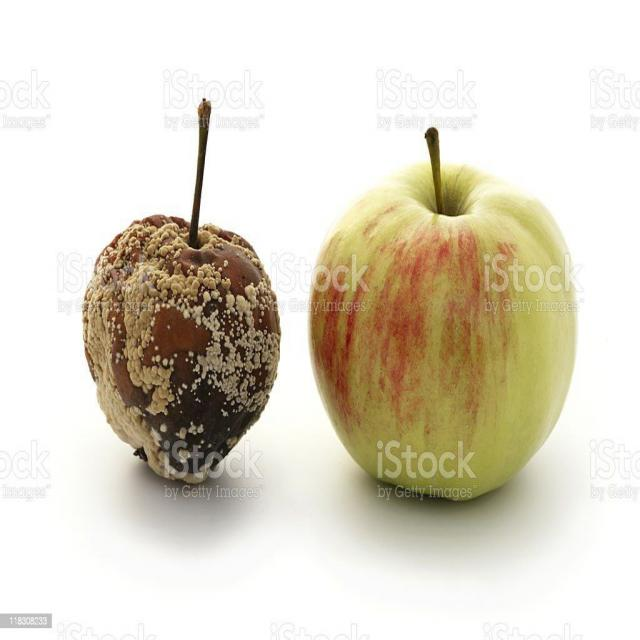fresh_apple: (308, 170, 578, 500)
rotten_apple: (81, 220, 282, 483)
